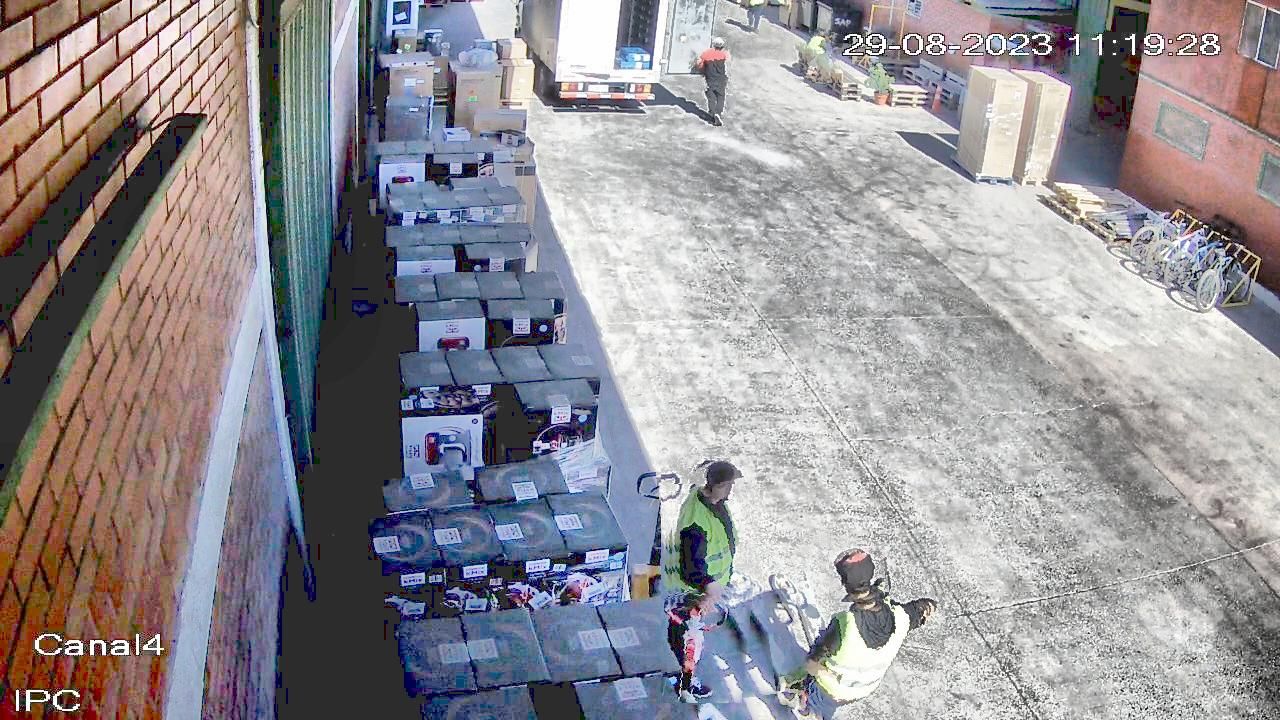con-casco: (713, 36, 729, 51)
con-chaleco: (801, 587, 910, 709), (673, 484, 762, 604), (808, 35, 833, 59), (745, 0, 771, 8)
persona: (782, 533, 945, 720), (662, 448, 768, 704), (692, 36, 733, 126), (804, 28, 842, 83), (740, 0, 770, 34)
sin-casco: (695, 457, 758, 517), (830, 547, 891, 604), (697, 48, 731, 89), (819, 31, 833, 39)
